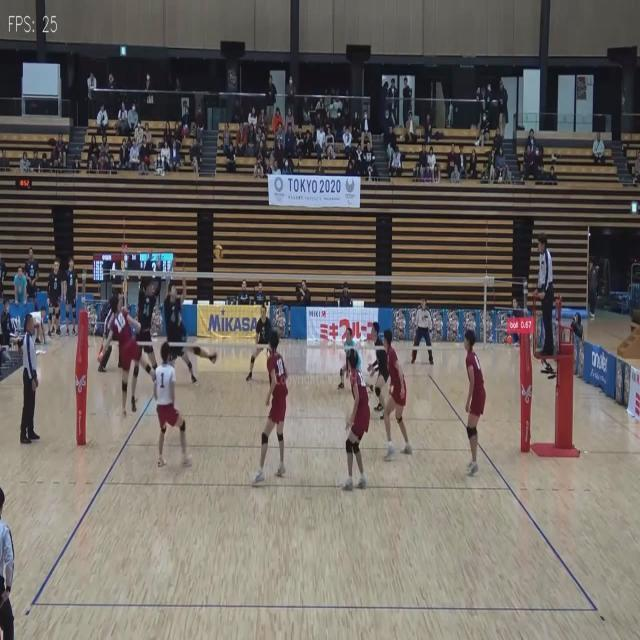volleyball: (212, 245, 222, 258)
